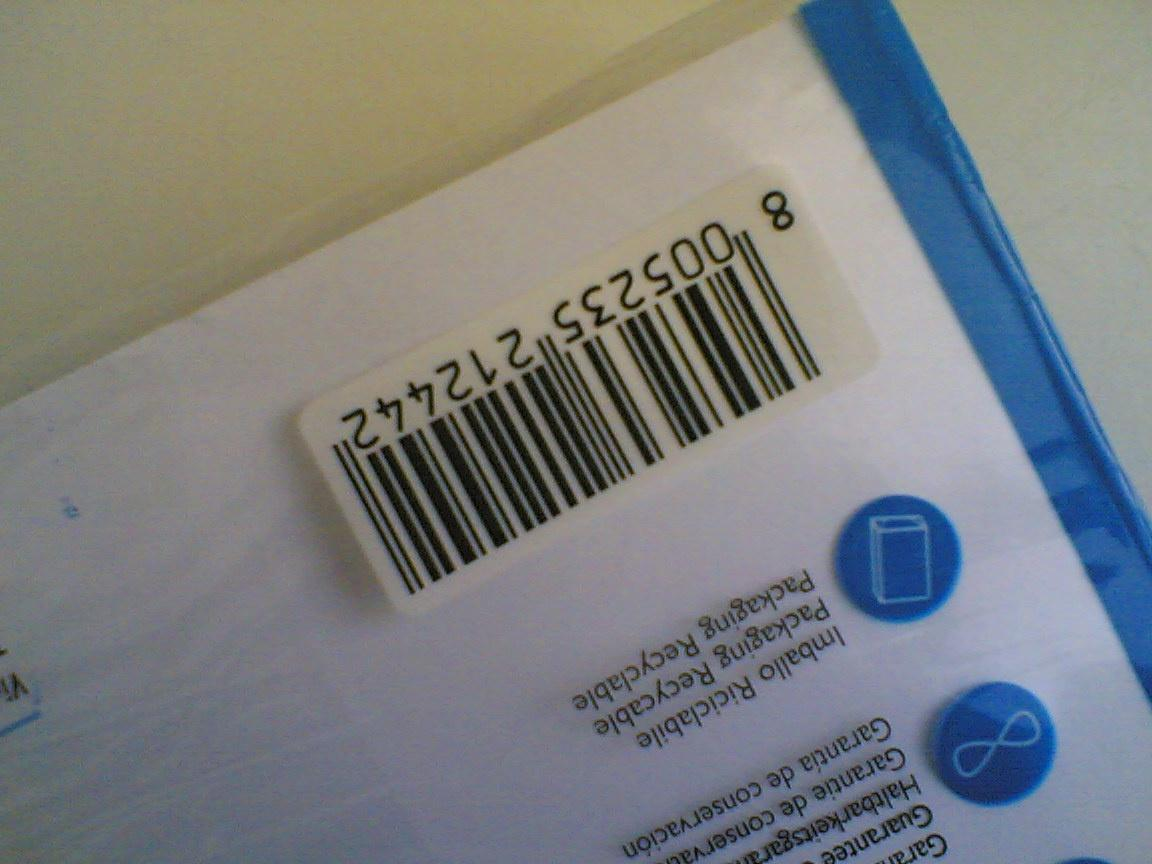Barcode: (296, 161, 882, 611)
